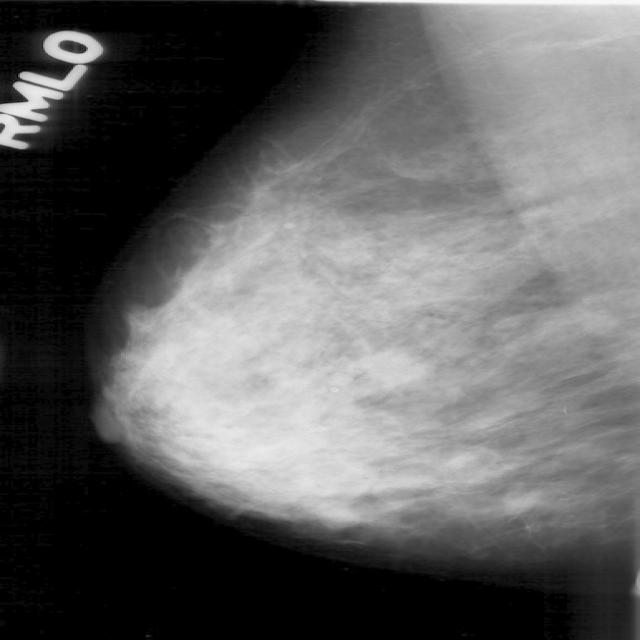tumour: (355, 346, 428, 388)
